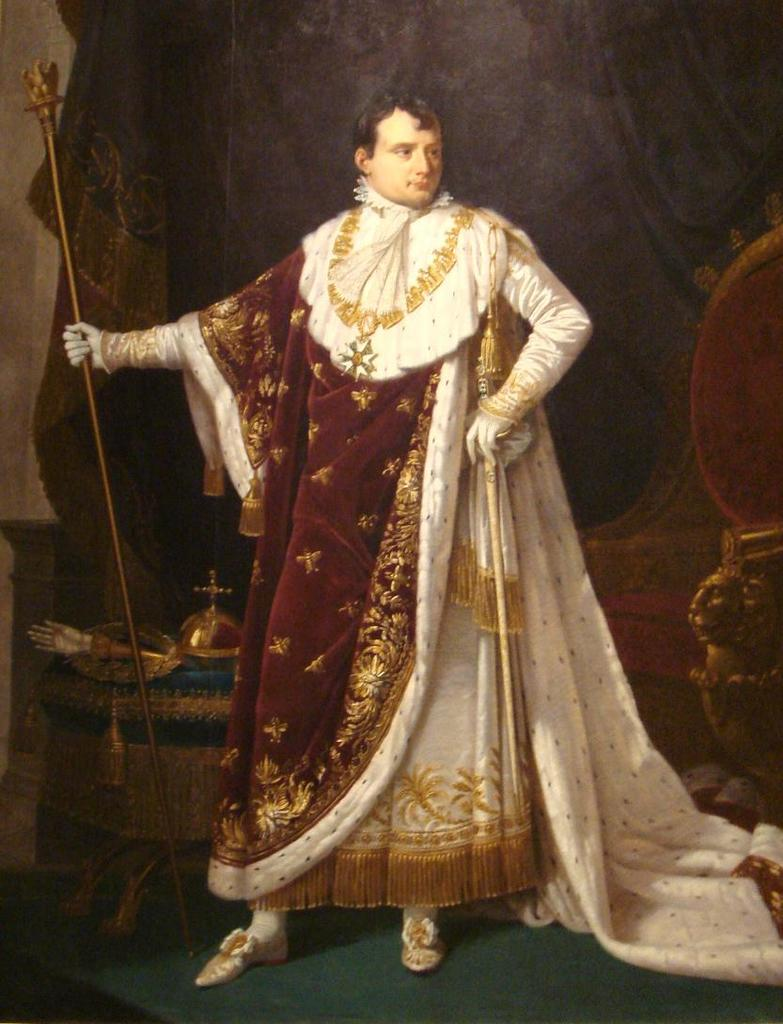Person: (62, 88, 782, 987)
